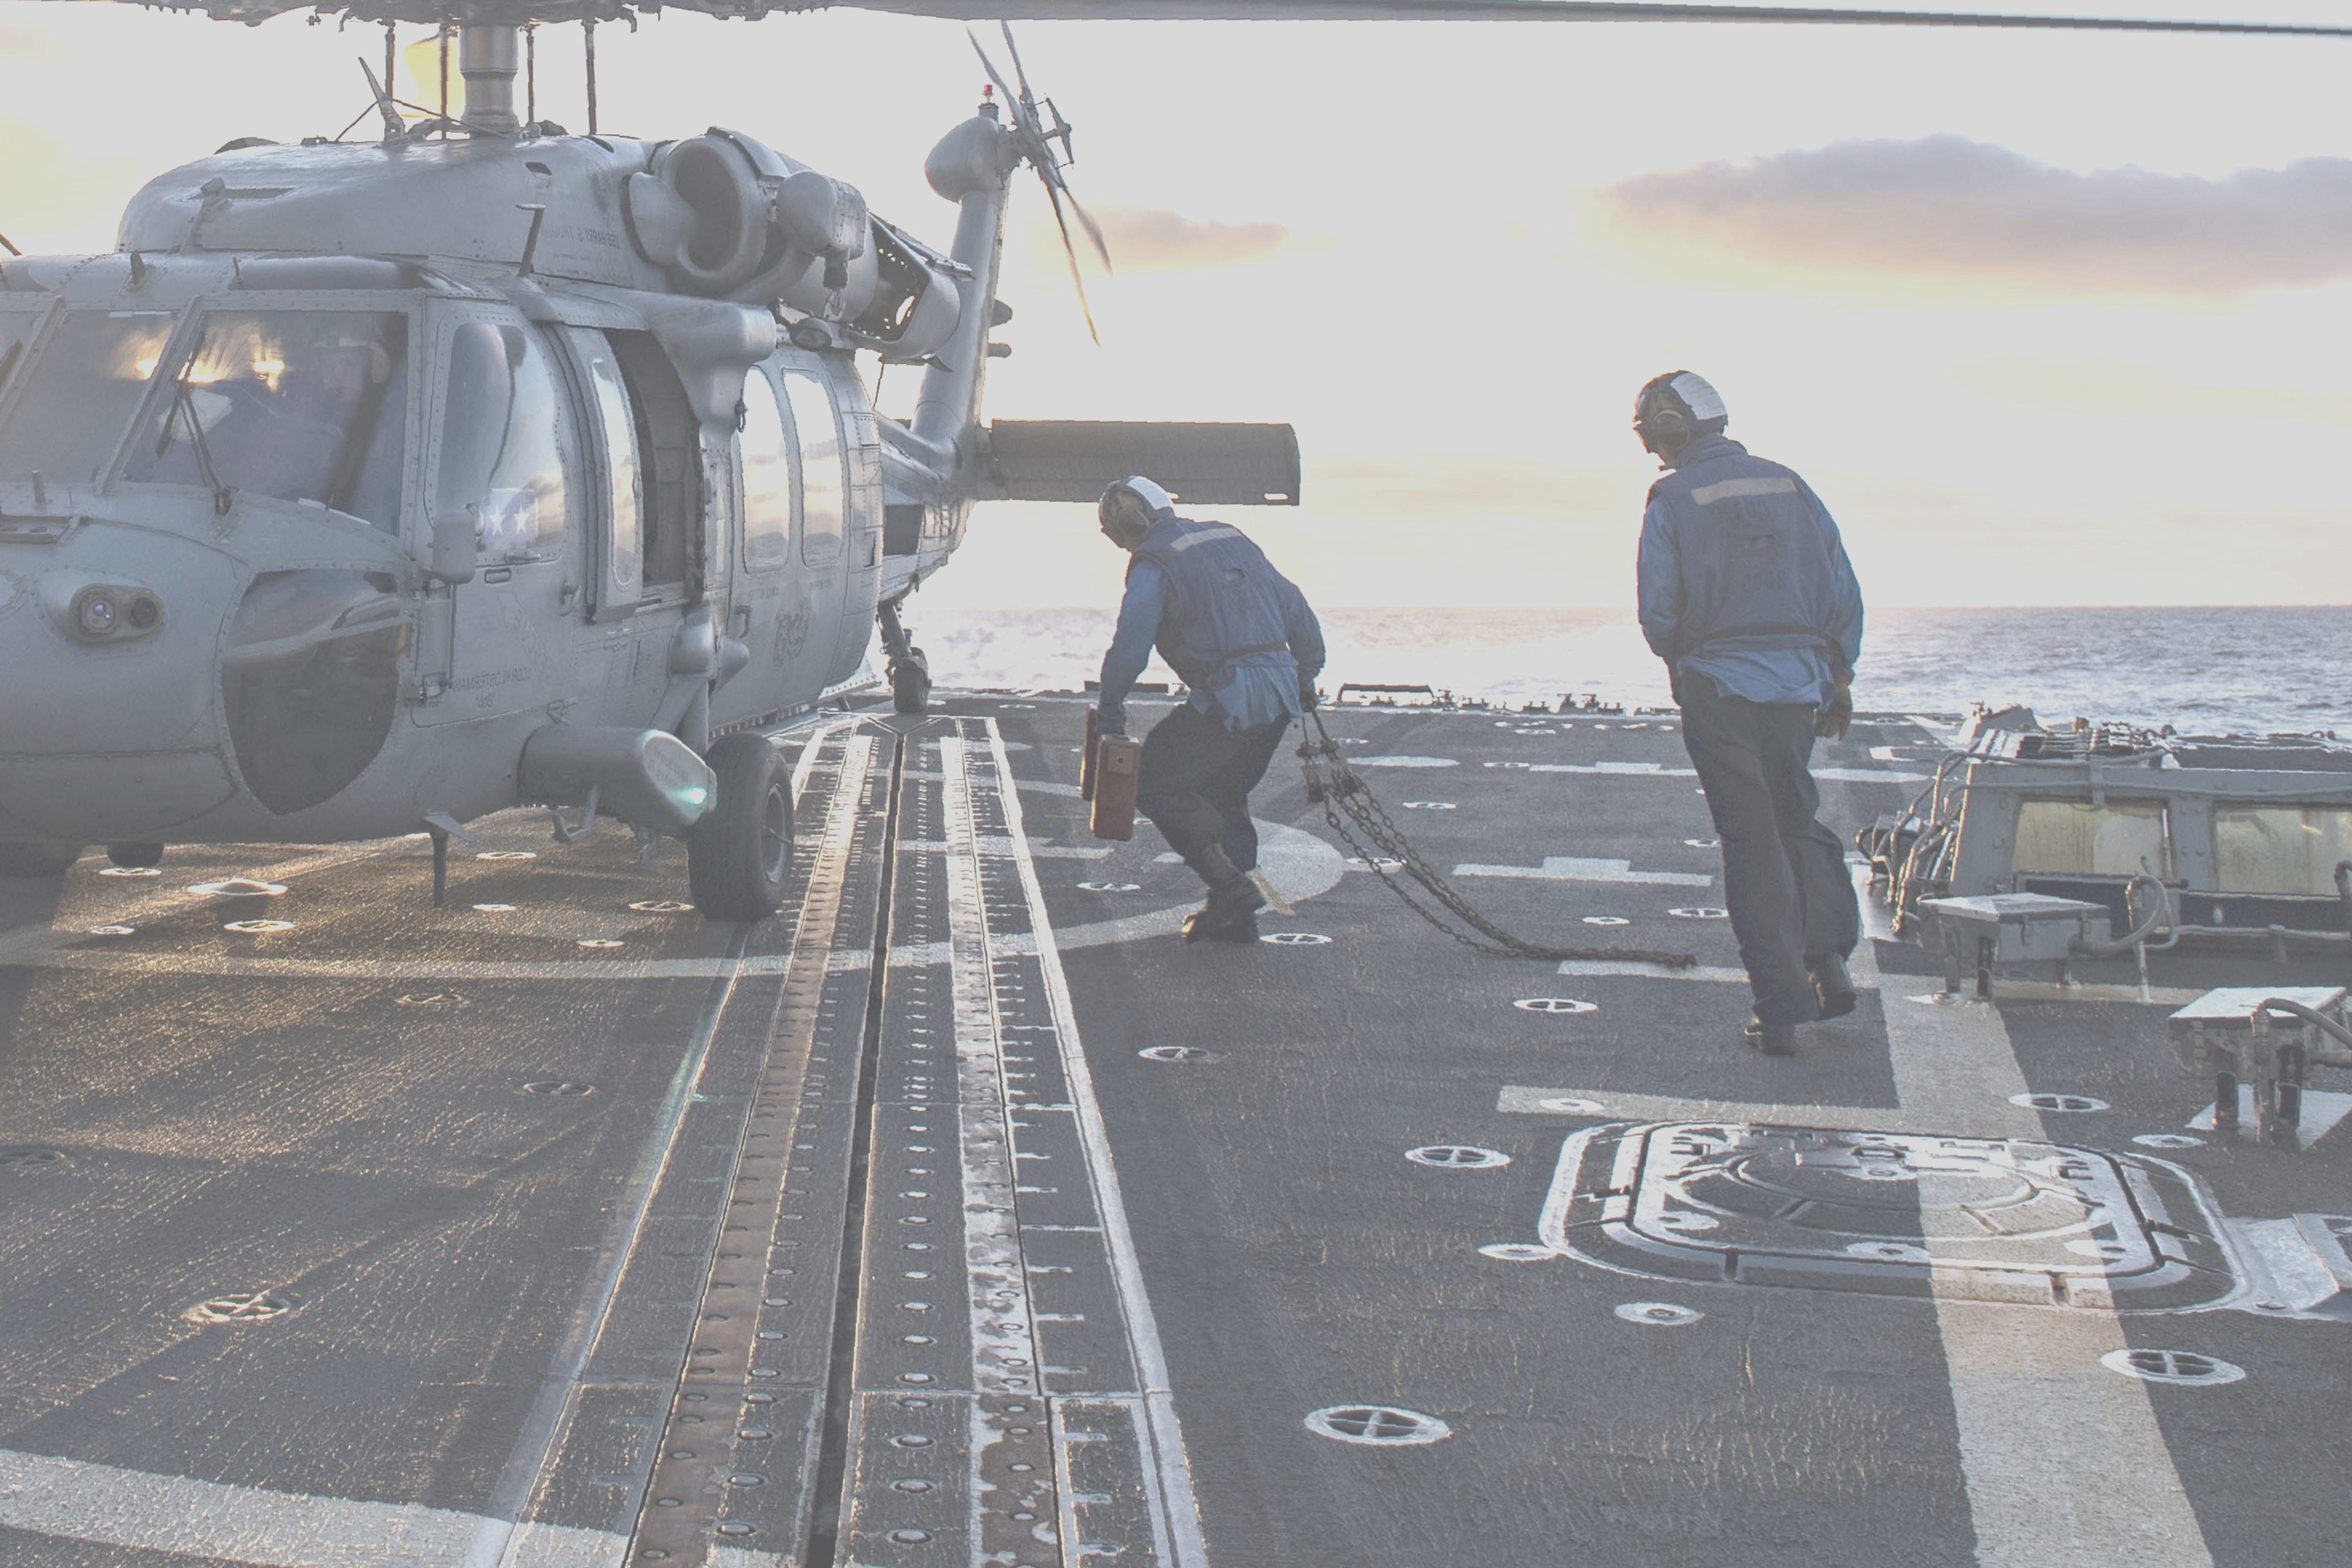Apron: (333, 611, 1193, 921)
